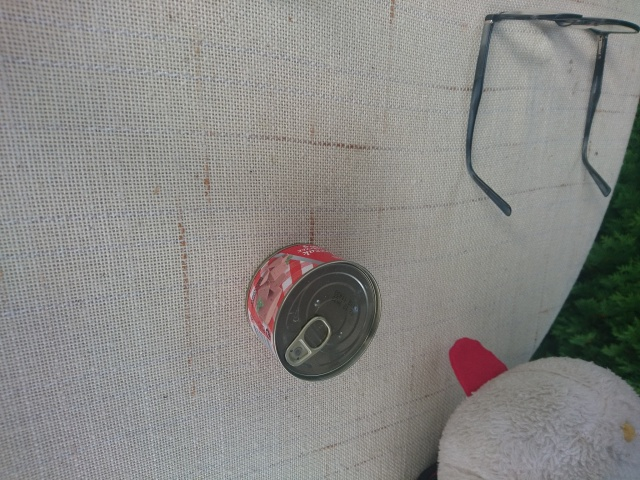Podravka Luncheon Meat 150g: (240, 239, 385, 384)
